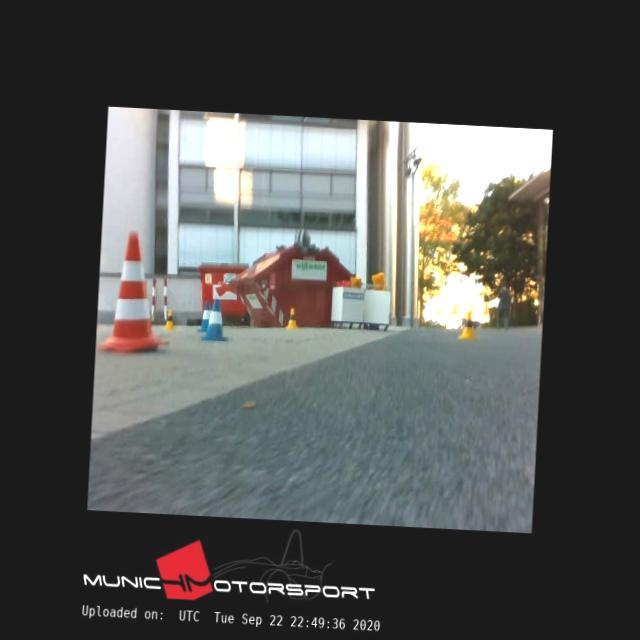blue_cone: (202, 299, 230, 342), (198, 299, 212, 332)
large_orange_cone: (101, 230, 175, 352)
yellow_cone: (460, 314, 474, 339), (286, 308, 299, 330), (166, 310, 173, 328)
